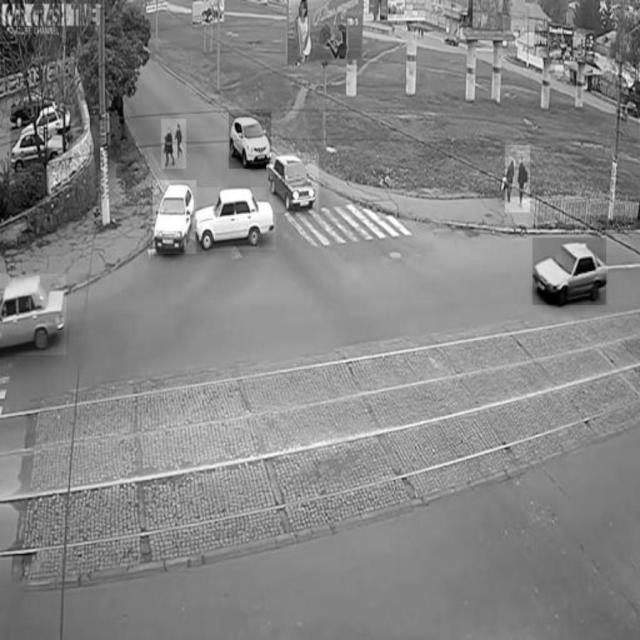person: (505, 145, 531, 212), (161, 120, 186, 170)
vehicle: (1, 274, 67, 355), (533, 237, 606, 305), (196, 188, 276, 250), (152, 181, 196, 254), (270, 153, 318, 214), (10, 128, 72, 173), (230, 113, 272, 169)
